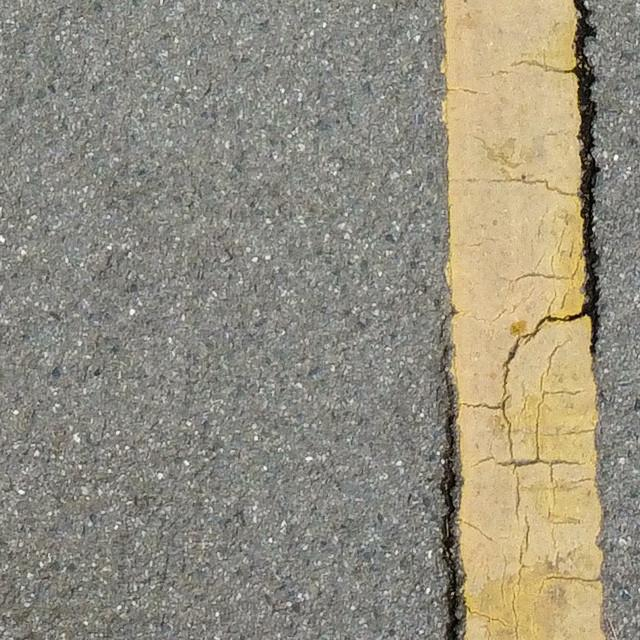LongitudinalCrack: (562, 1, 604, 358), (437, 343, 463, 640)
